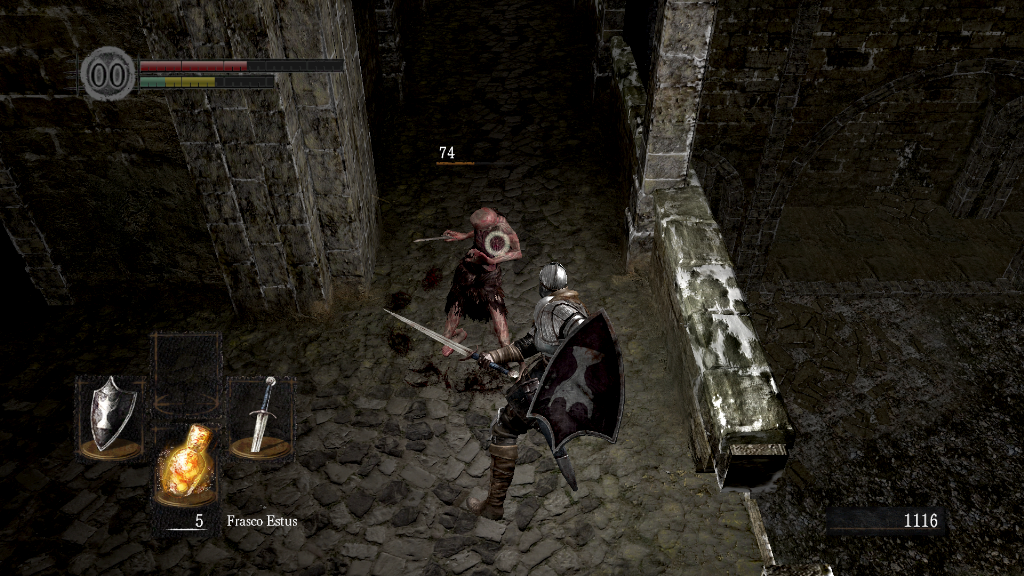health: (138, 58, 343, 71)
hollow: (443, 208, 526, 383)
humanity: (80, 45, 136, 102)
player: (380, 261, 626, 522)
souls: (825, 506, 945, 536)
stamina: (138, 74, 274, 88)
